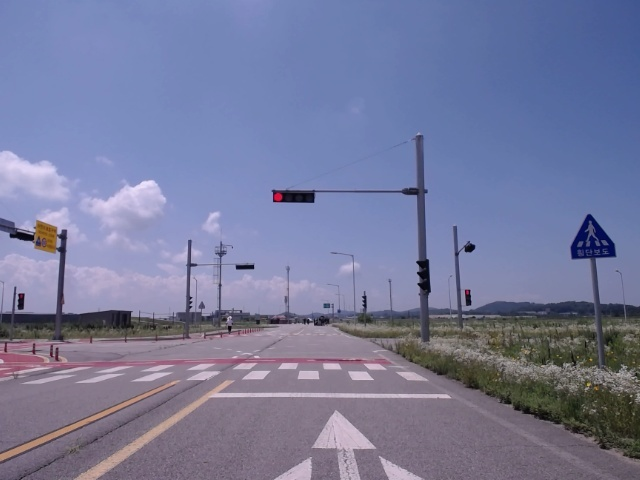red_4: (273, 192, 314, 203)
